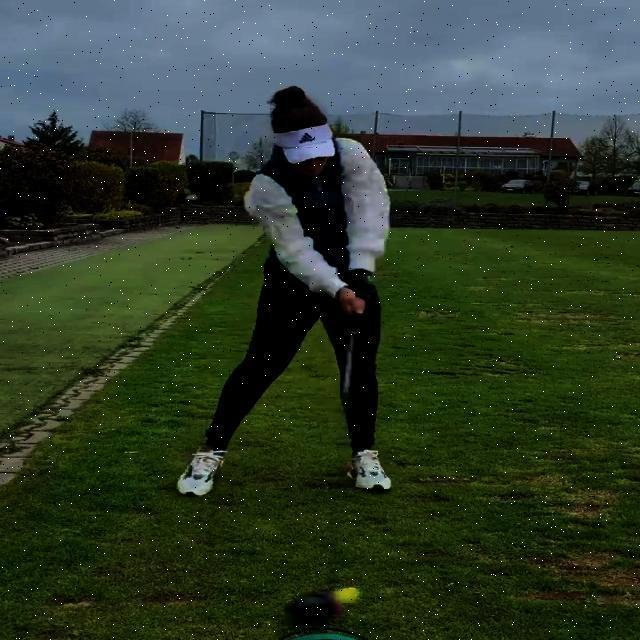ClubHead: (287, 590, 334, 626)
GolfBall: (334, 586, 359, 604)
